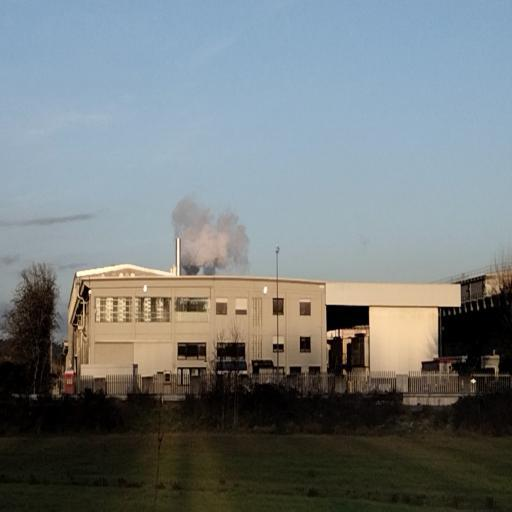leakage: (170, 183, 254, 280)
